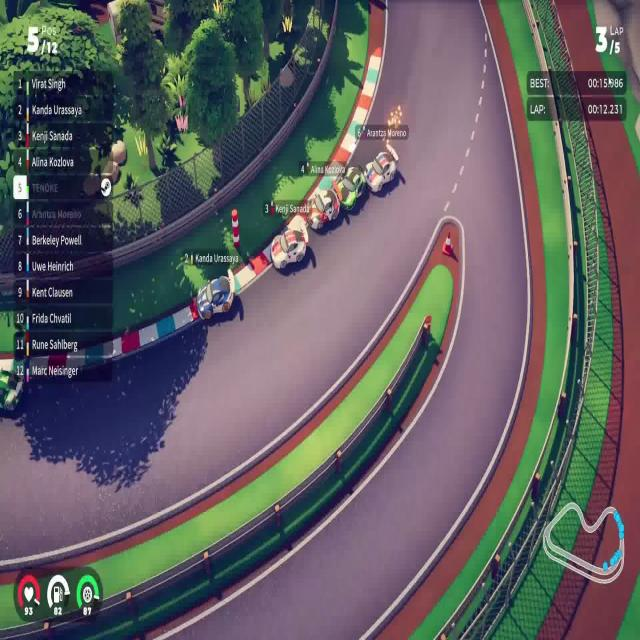car: (270, 213, 309, 271), (195, 272, 235, 321), (364, 142, 399, 194), (331, 163, 366, 213), (305, 186, 341, 231)
